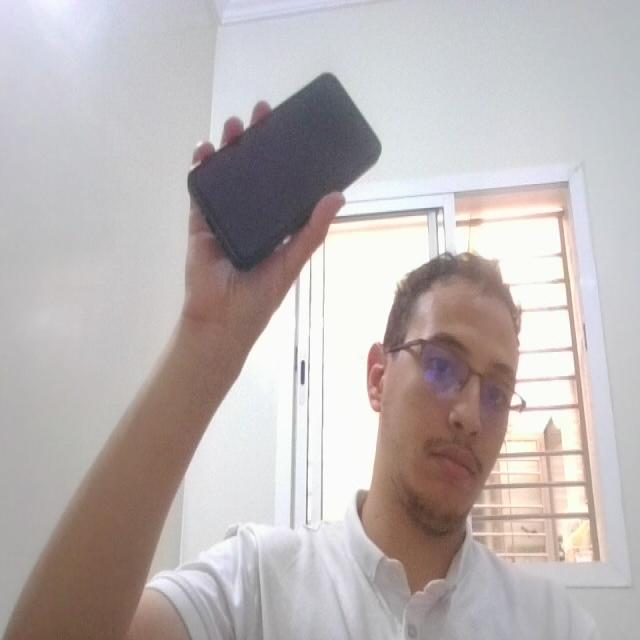phone: (179, 63, 397, 282)
